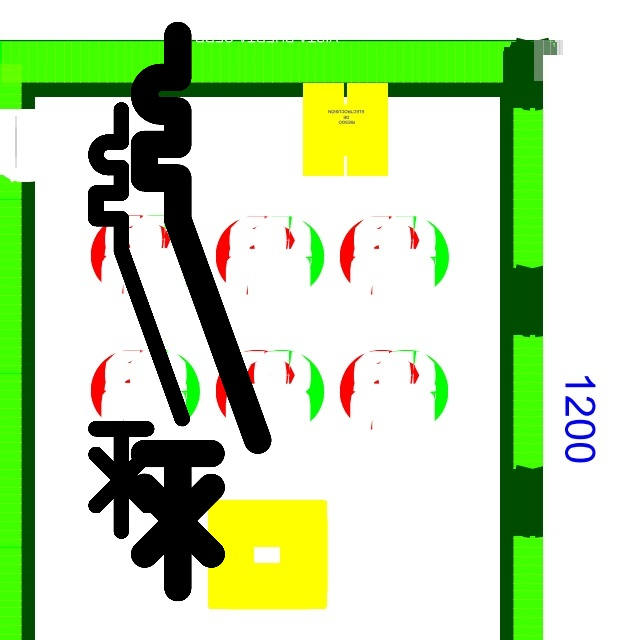interruptor_termomagnetico: (130, 21, 272, 602), (85, 99, 193, 542)
